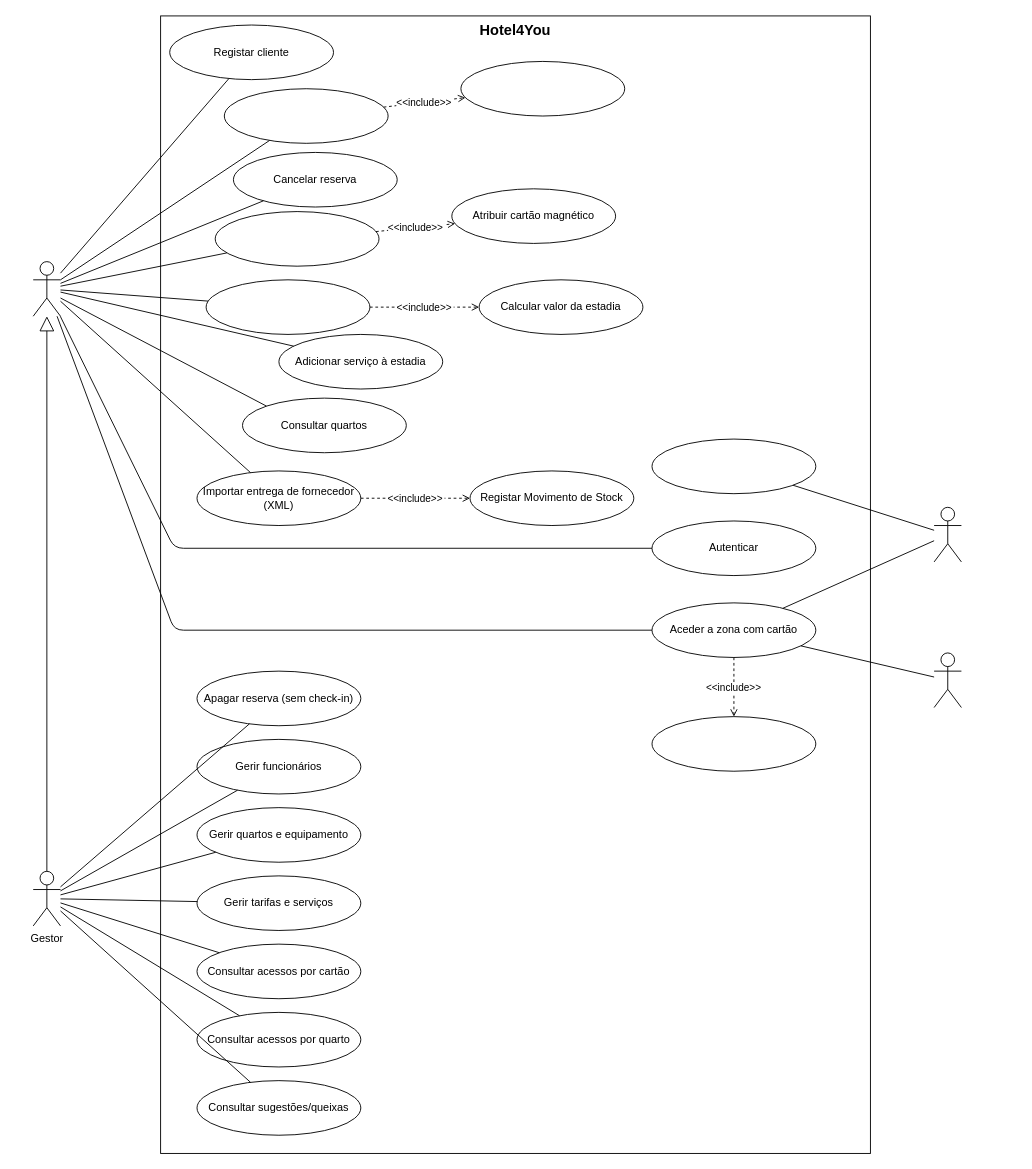
Image size: 1032x1169. Some labels were removed from this diagram. The shapes that lost their labels are listed below. From the top down, each one's box as (x1, y1, x2, y2) in pixels, then its label:
(460, 61, 625, 116): Consultar disponibilidade de quartos
(223, 88, 388, 143): Criar reserva
(214, 211, 379, 266): Efetuar check-in
(32, 261, 61, 316): Rececionista
(205, 279, 370, 334): Efetuar check-out
(651, 438, 816, 494): Submeter sugestão/queixa
(933, 506, 961, 562): Cliente
(933, 652, 961, 708): Funcionário de Restauração
(651, 716, 816, 771): Registar acesso (local e hora)
